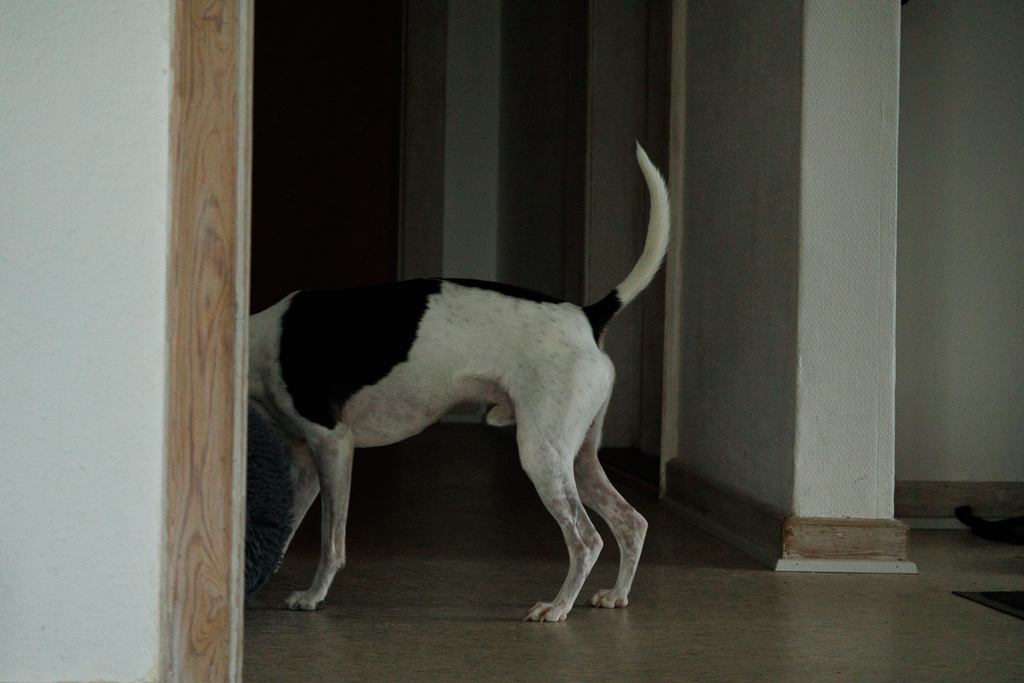Dog: (246, 135, 672, 626)
